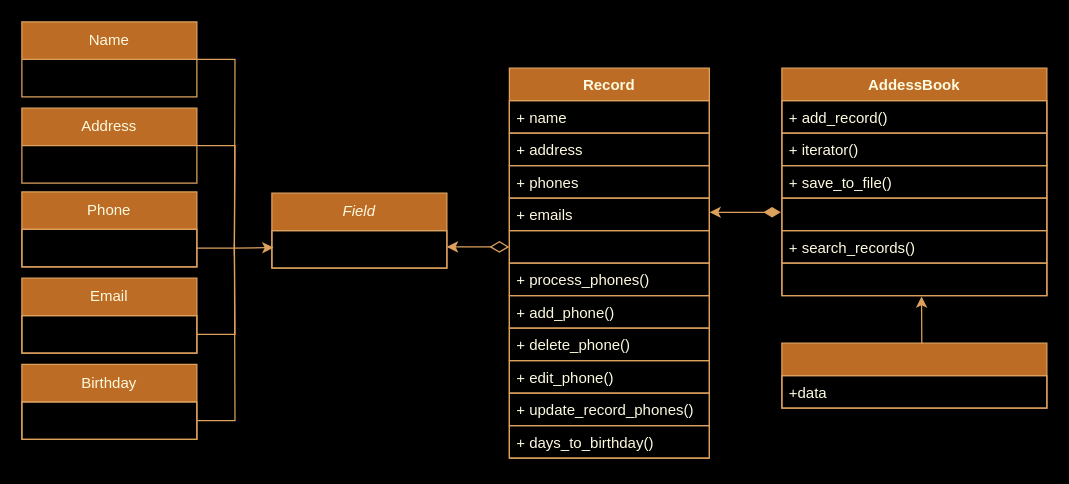
Image size: 1069x484. Some labels were removed from this diagram. Each missing label, with the box of its shape:
+ birthday: (508, 229, 709, 263)
+ get_upcoming_birthday_contacts(): (781, 262, 1047, 296)
+ load_from_file(): (781, 197, 1047, 231)
+ validate_birthday(): (21, 401, 197, 439)
+ validate_email(): (21, 314, 197, 353)
+ validate_phone(): (21, 228, 197, 267)
+ value: (271, 229, 447, 268)
UserDict: (781, 342, 1047, 408)
